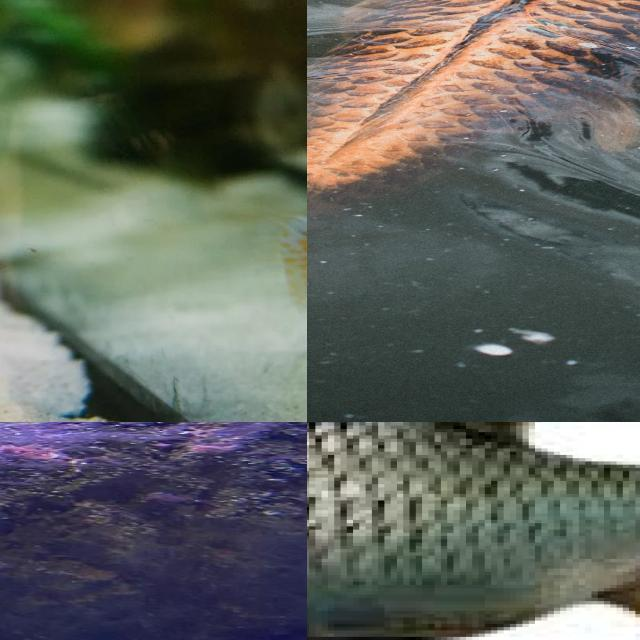fish: (0, 0, 307, 422), (307, 422, 640, 640), (307, 14, 640, 208)
